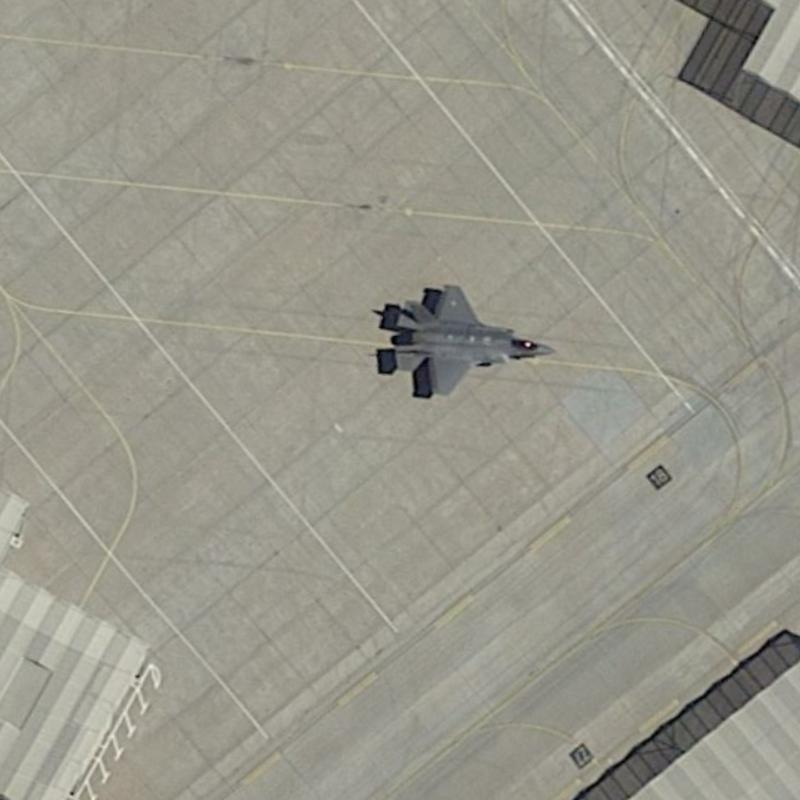A15: (376, 272, 556, 402)
